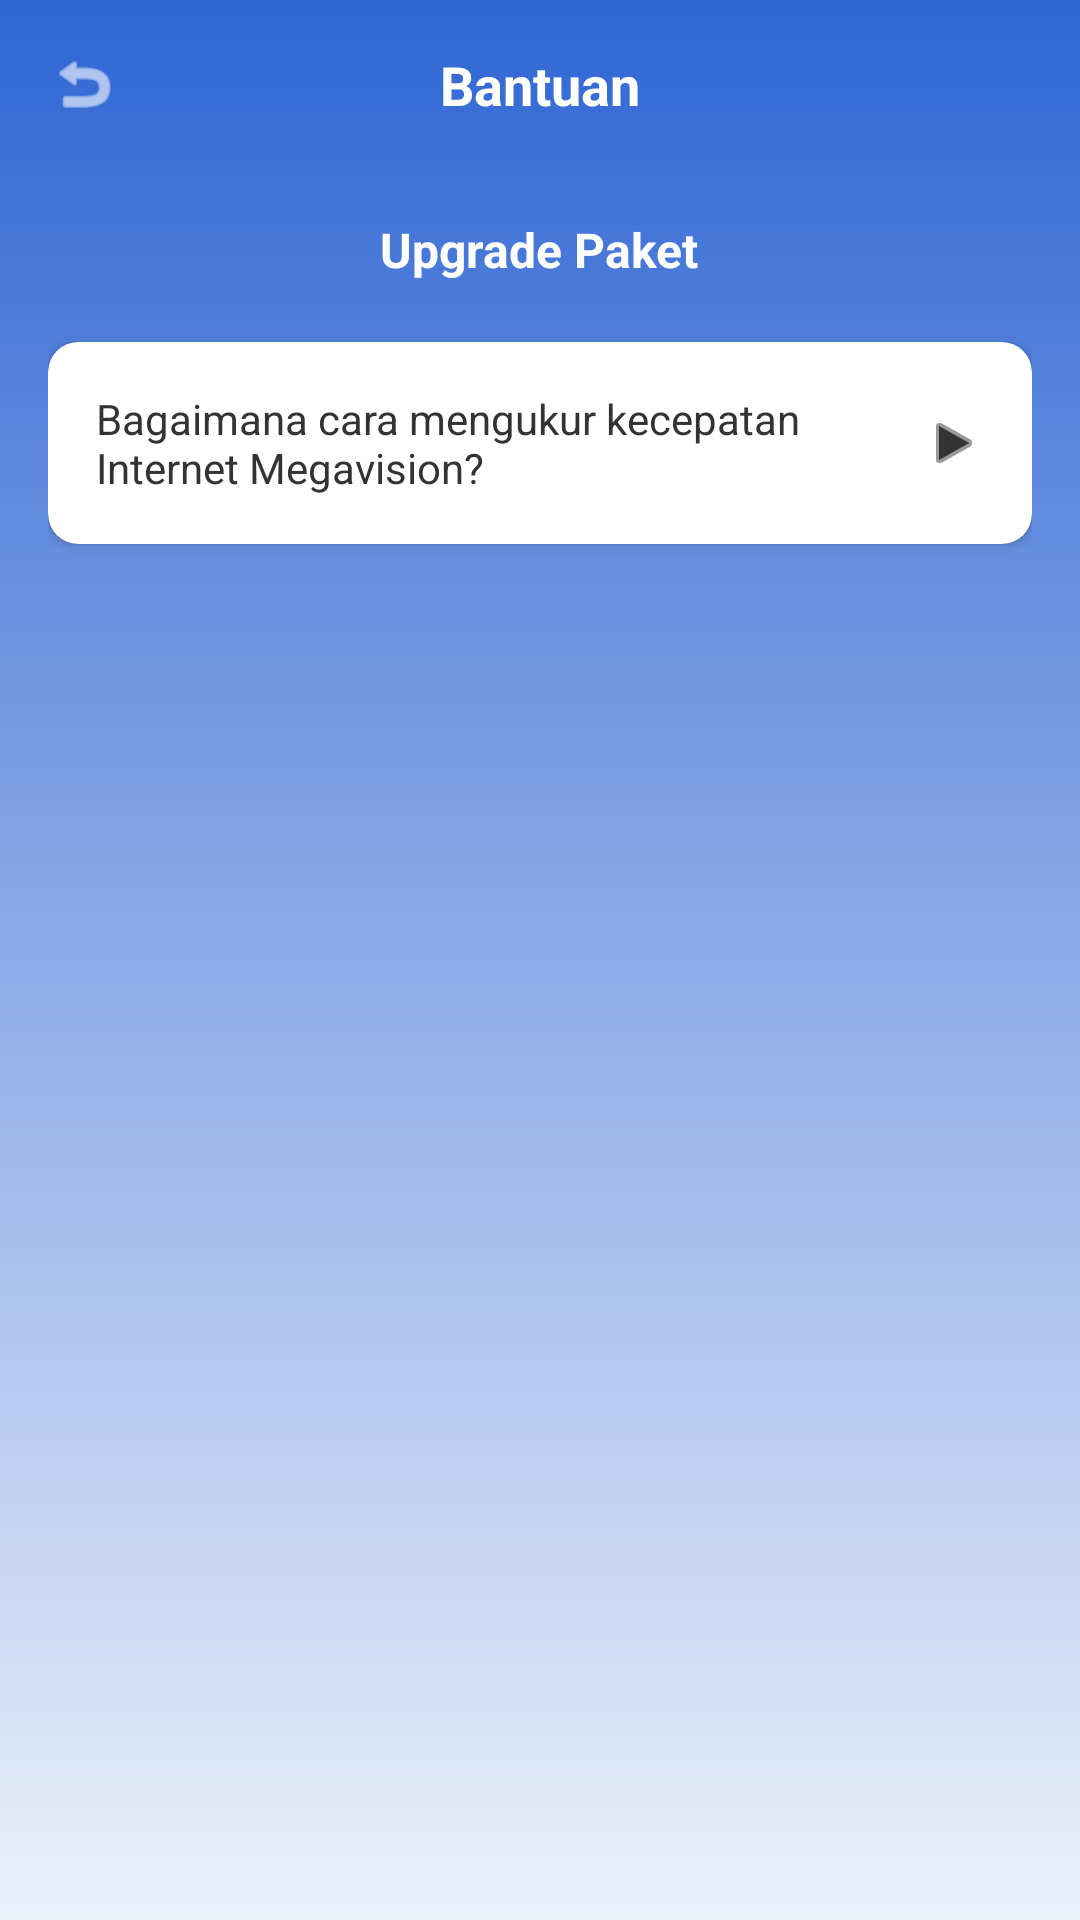

Icon bounding boxes for this 1080 × 1920 phone screenshot, format {"x1": x1, "y1": y1, "x2": x2, "y2": y2}:
play: {"x1": 936, "y1": 423, "x2": 972, "y2": 463}
revert: {"x1": 59, "y1": 61, "x2": 111, "y2": 108}
